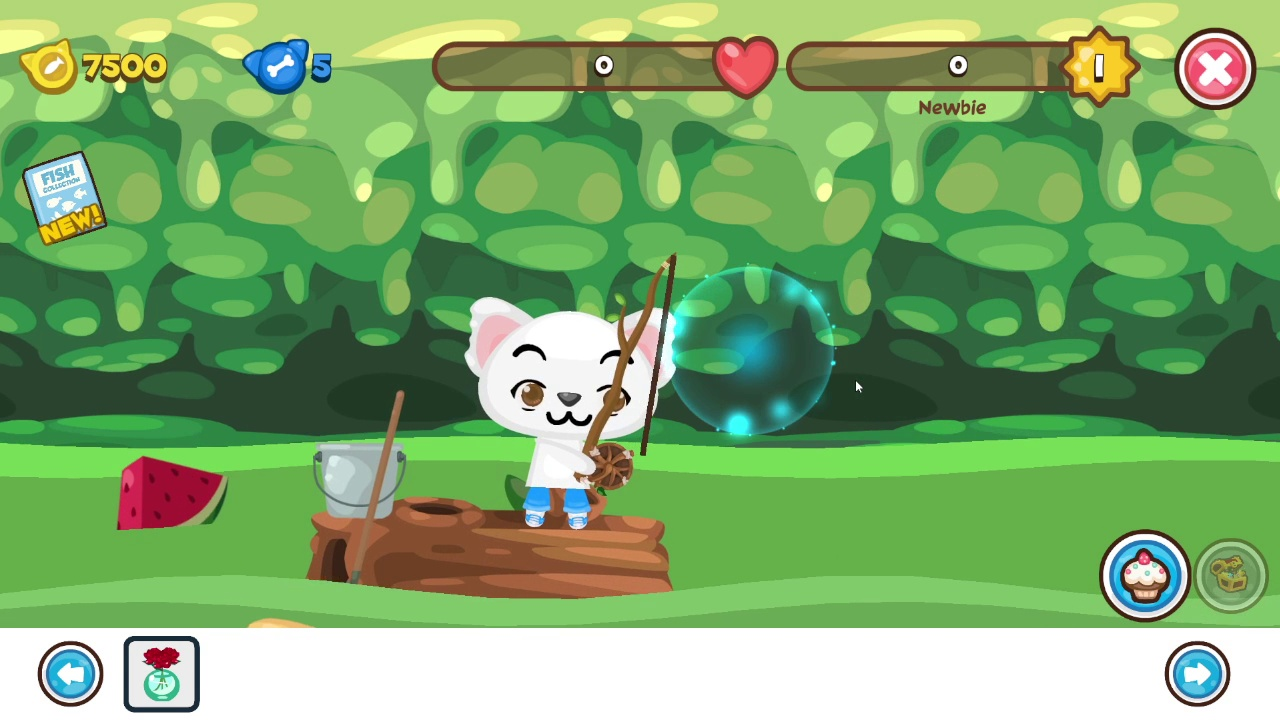point: (661, 262, 839, 438)
